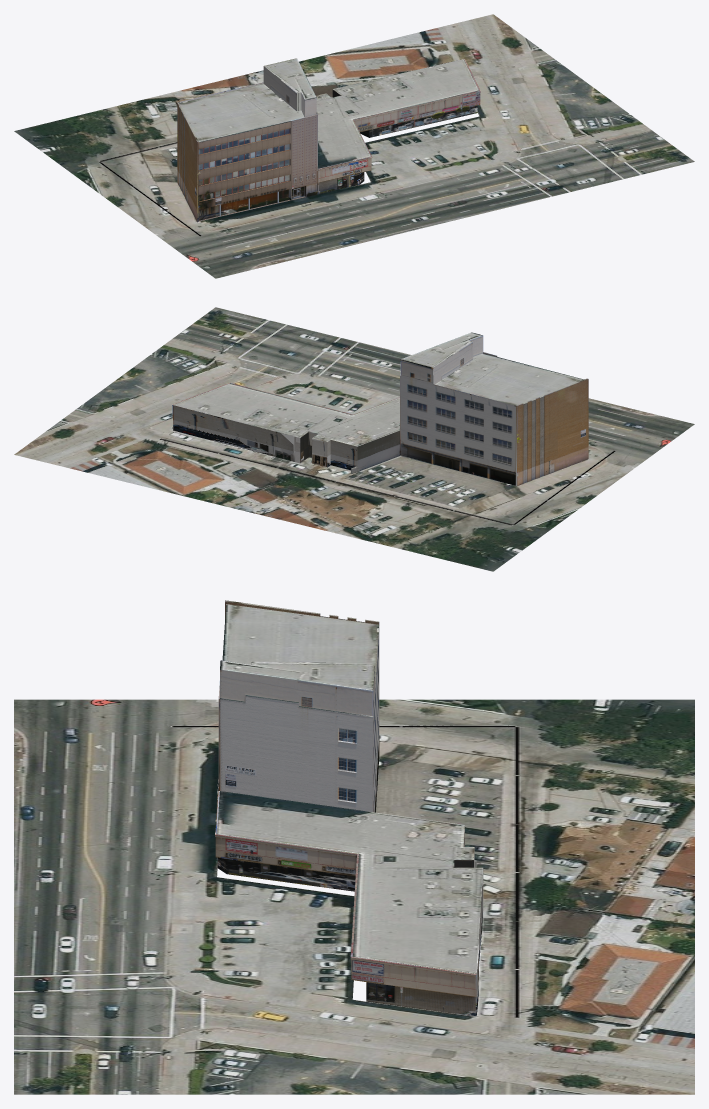
File: harley.gltf
3 views of the same model, one above another, from view 1: azimuth 30°, elevation 25°; view 2: azimuth 150°, elevation 25°; view 3: azimuth 270°, elevation 25° (orthographic). The views are drawn at different scales.
Visible parts, largest first — view 1: Object03_Material #25_0, Object03_Material #30_0, Object03_Material #27_0, Object03_Material #31_0, Object03_Material #29_0, Object03_Material #32_0; view 2: Object03_Material #25_0, Object03_Material #33_0, Object03_Material #31_0, Object03_Material #35_0, Object03_Material #34_0, Object03_Material #32_0, Object03_Material #36_0; view 3: Object03_Material #25_0, Object03_Material #32_0, Object03_Material #28_0, Object03_Material #26_0, Object03_Material #33_0.
Part boxes in pixels (bbox=[...]): Object03_Material #25_0: bbox=[14, 14, 694, 278]; Object03_Material #30_0: bbox=[197, 97, 317, 221]; Object03_Material #27_0: bbox=[353, 91, 480, 137]; Object03_Material #31_0: bbox=[177, 103, 197, 221]; Object03_Material #29_0: bbox=[317, 157, 372, 194]; Object03_Material #32_0: bbox=[263, 66, 304, 117]; Object03_Material #25_0: bbox=[14, 307, 694, 571]; Object03_Material #33_0: bbox=[400, 359, 516, 486]; Object03_Material #31_0: bbox=[517, 379, 588, 485]; Object03_Material #35_0: bbox=[173, 405, 357, 470]; Object03_Material #34_0: bbox=[352, 430, 399, 473]; Object03_Material #32_0: bbox=[400, 335, 483, 384]; Object03_Material #36_0: bbox=[312, 438, 327, 467]; Object03_Material #25_0: bbox=[14, 600, 694, 1094]; Object03_Material #32_0: bbox=[220, 660, 373, 812]; Object03_Material #28_0: bbox=[215, 834, 358, 891]; Object03_Material #26_0: bbox=[350, 956, 476, 1016]; Object03_Material #33_0: bbox=[373, 624, 379, 812].
Size of the model in its own units: 4398 by 849 by 3204.
16 materials, 16 textured.
